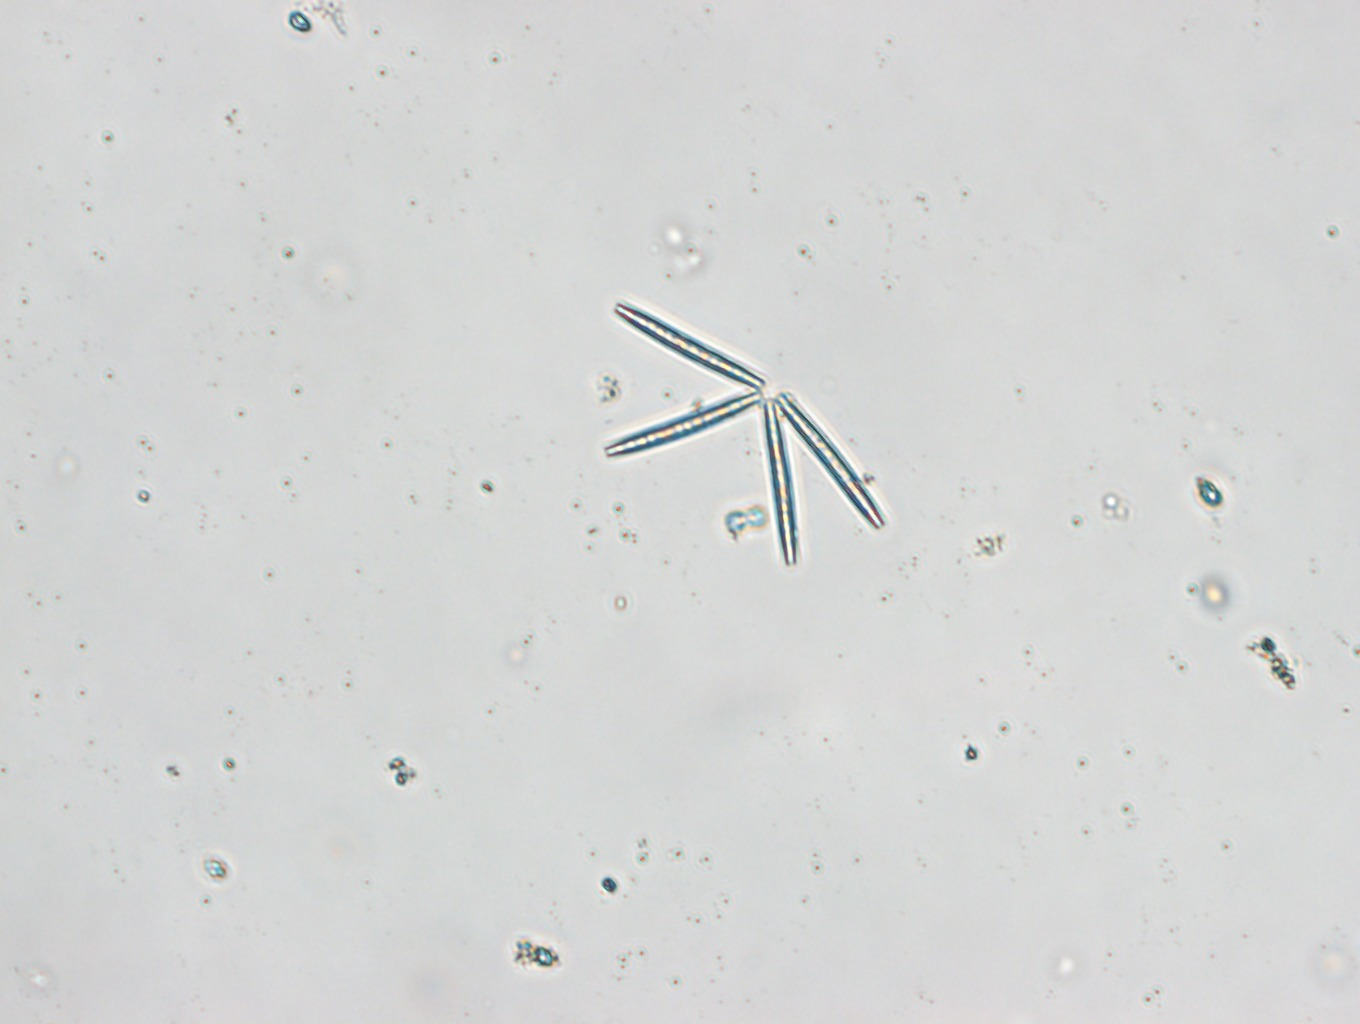thalassionema nitzschioides: (604, 299, 885, 567)
